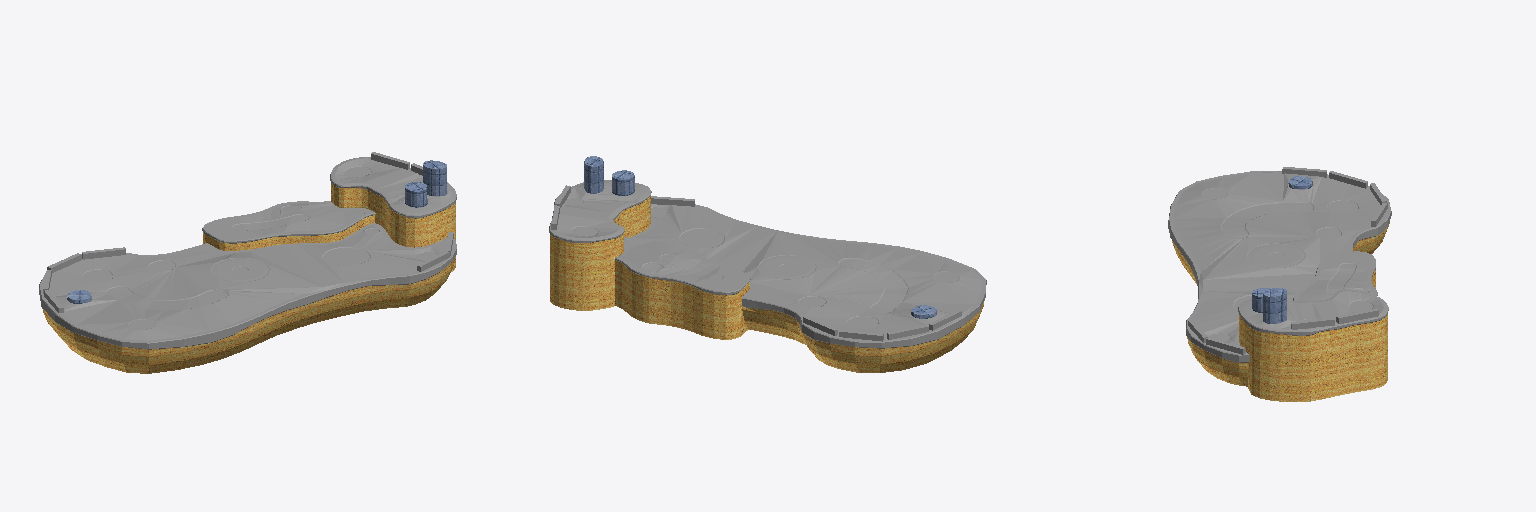
3 renders of one model, left to right at view 1: azimuth 30°, elevation 25°; view 2: azimuth 150°, elevation 25°; view 3: azimuth 270°, elevation 25°, orthographic.
Visible parts, largest first — view 1: Plane.004_Plane.015, Plane.005, Plane.000_Plane.011, Plane.003_Plane.014, Plane.001_Plane.012, Plane.002_Plane.013; view 2: Plane.004_Plane.015, Plane.005, Plane.000_Plane.011, Plane.003_Plane.014, Plane.001_Plane.012, Plane.002_Plane.013; view 3: Plane.004_Plane.015, Plane.005, Plane.003_Plane.014, Plane.000_Plane.011, Plane.001_Plane.012, Plane.002_Plane.013.
Boxes of the visible parts, <box> form: Plane.004_Plane.015: <box>39,157,456,349</box>; Plane.005: <box>42,183,455,373</box>; Plane.000_Plane.011: <box>202,201,374,279</box>; Plane.003_Plane.014: <box>82,167,436,329</box>; Plane.001_Plane.012: <box>43,152,453,312</box>; Plane.002_Plane.013: <box>67,160,446,303</box>; Plane.004_Plane.015: <box>549,180,986,348</box>; Plane.005: <box>550,196,984,372</box>; Plane.000_Plane.011: <box>615,237,810,295</box>; Plane.003_Plane.014: <box>566,198,958,328</box>; Plane.001_Plane.012: <box>551,185,961,341</box>; Plane.002_Plane.013: <box>584,156,936,318</box>; Plane.004_Plane.015: <box>1168,171,1391,362</box>; Plane.005: <box>1172,222,1389,401</box>; Plane.003_Plane.014: <box>1203,188,1372,341</box>; Plane.000_Plane.011: <box>1253,246,1377,300</box>; Plane.001_Plane.012: <box>1188,167,1387,354</box>; Plane.002_Plane.013: <box>1252,176,1312,323</box>.
Bounding box in the file's own units: 5621 × 1351 × 2739.
7 materials, 2 textured.